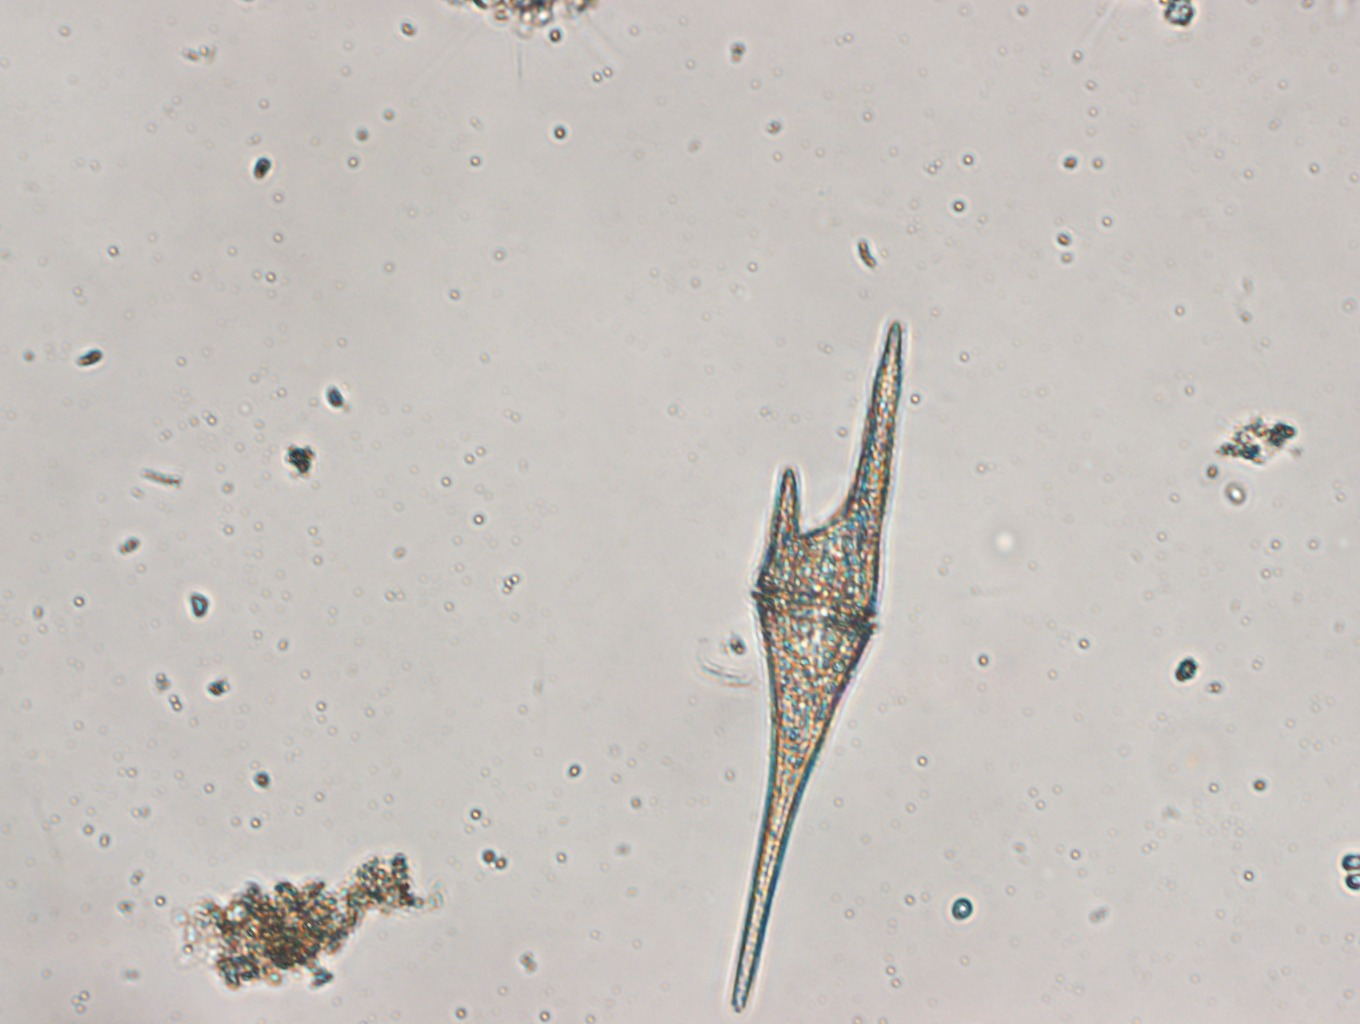ceratium furca: (726, 313, 903, 1016)
